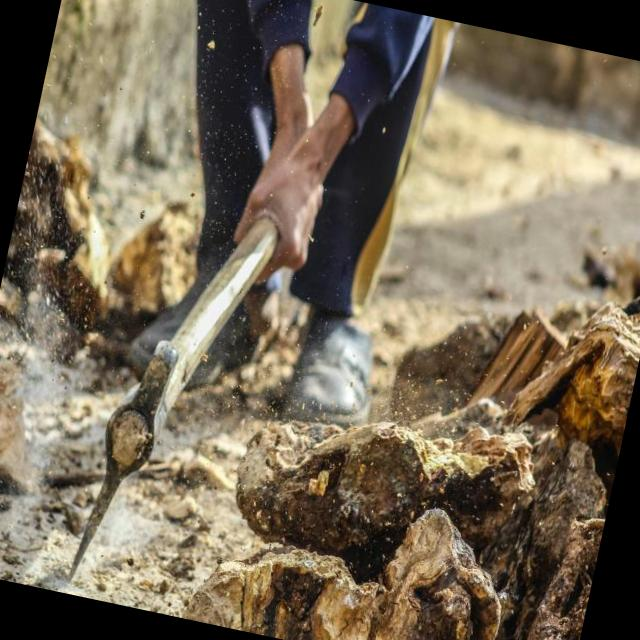Axe: (71, 217, 277, 577)
